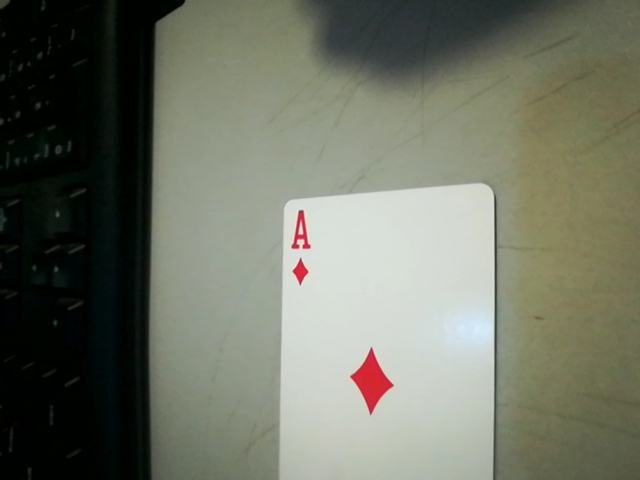fk a: (277, 204, 321, 291)
